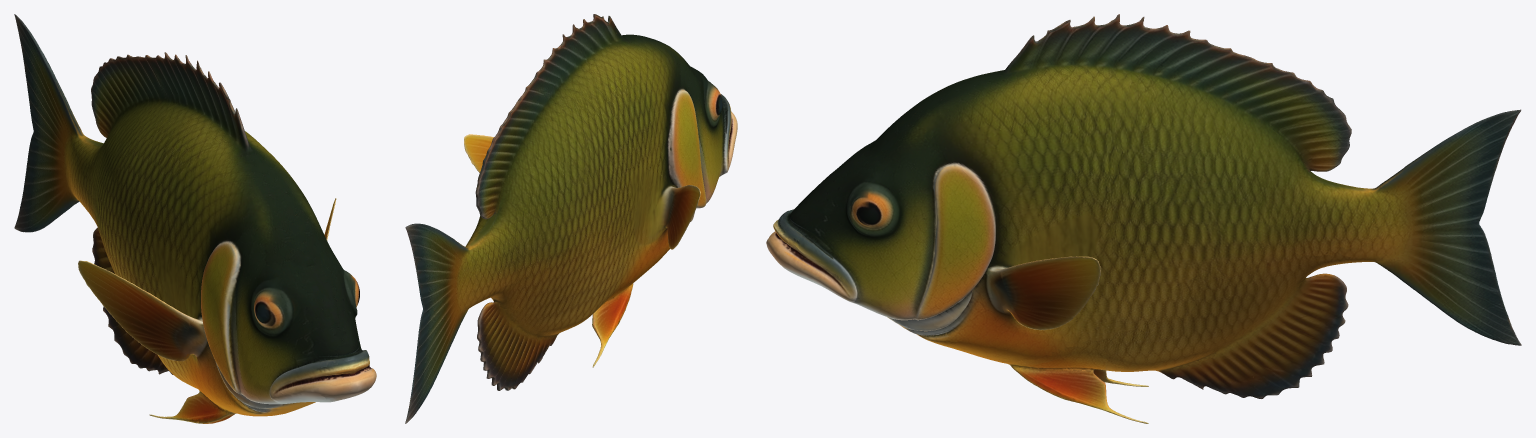
Rendered from TaiTuong.glb.
3 views of the same model, side by side, from view 1: azimuth 30°, elevation 25°; view 2: azimuth 150°, elevation 25°; view 3: azimuth 270°, elevation 25° (orthographic). The views are drawn at different scales.
Visible parts, largest first — view 1: mesh_node; view 2: mesh_node; view 3: mesh_node.
Part boxes in pixels (x1,y1,x2,y2): mesh_node: [14, 14, 376, 423]; mesh_node: [405, 14, 737, 423]; mesh_node: [766, 14, 1521, 423].
Bounding box in the file's own units: 0.8212 × 1.09 × 1.9.
Materials: 1 (1 with a texture image).
